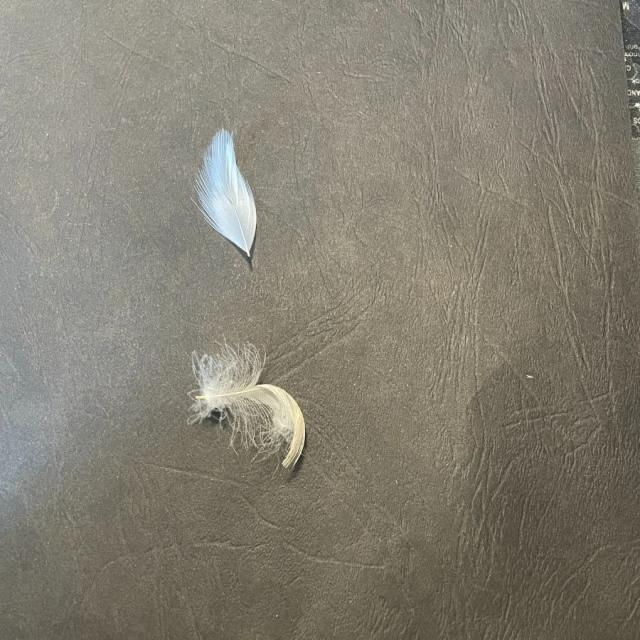feather: (188, 337, 306, 469), (192, 128, 260, 257)
